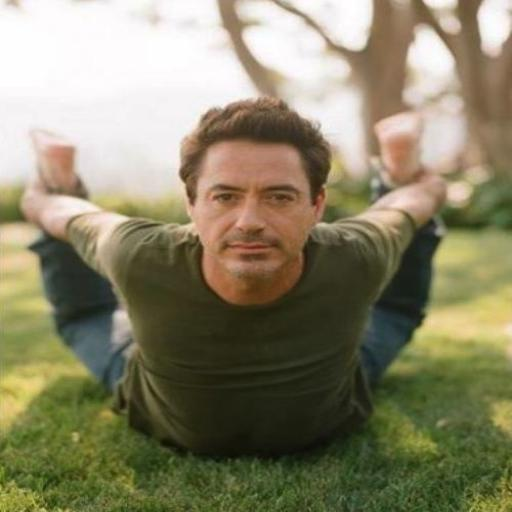crosswalk: (22, 98, 446, 456)
